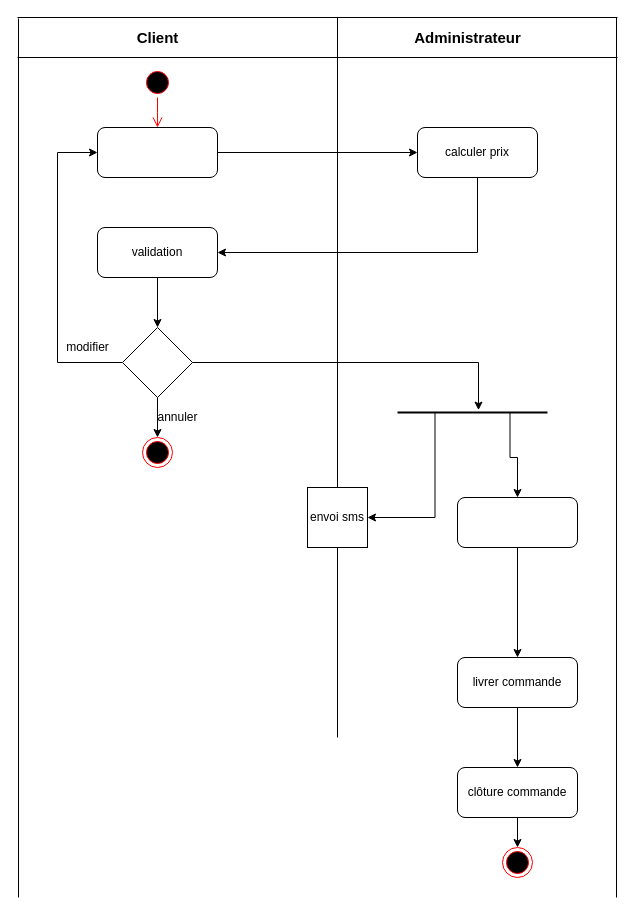
Some shapes in this 636 by 916 pixel diagram are drawn without their labels. The box of each missing label's shape, as (x1, y1, x2, y2) in pixels:
passer commande: (96, 126, 218, 178)
préparer commande: (456, 496, 578, 548)
